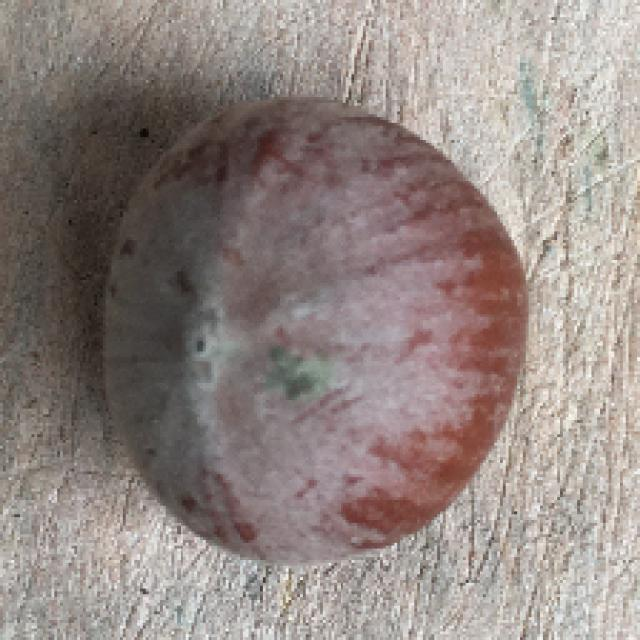qualityHazelnut: (108, 95, 531, 566)
